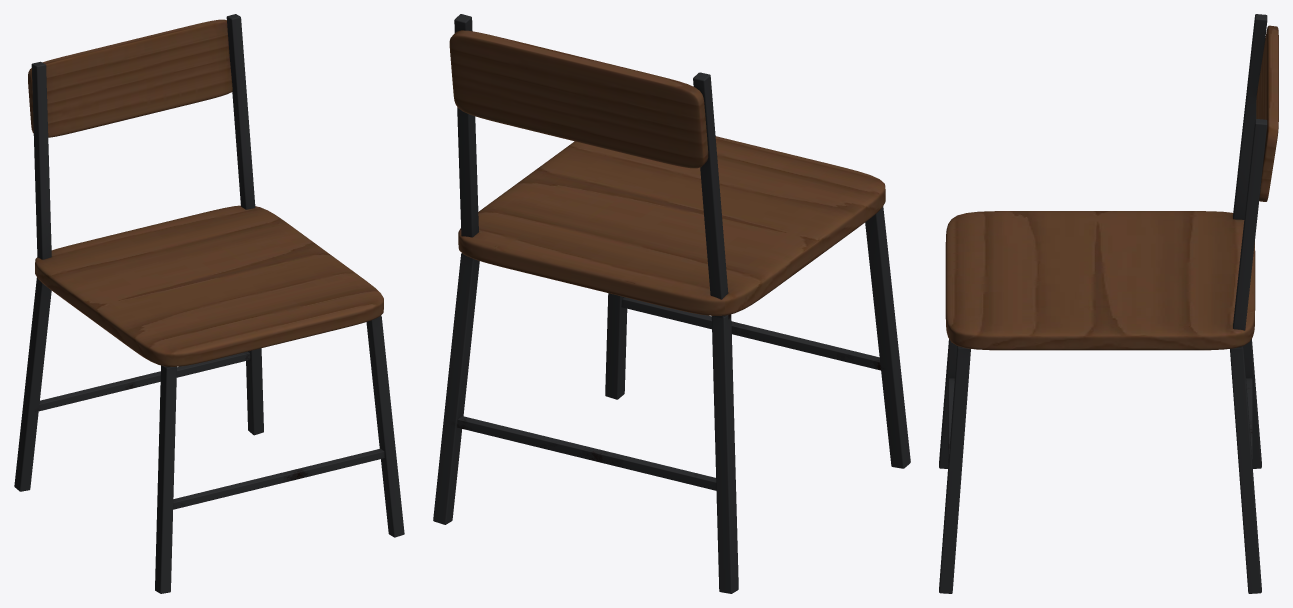
File: industrial-black.glb
3 views of the same model, side by side, from view 1: azimuth 30°, elevation 25°; view 2: azimuth 150°, elevation 25°; view 3: azimuth 270°, elevation 25° (orthographic). The views are drawn at different scales.
Parts seen in each view (by area): view 1: wood_h, paint_primary_metal; view 2: wood_h, paint_primary_metal; view 3: wood_h, paint_primary_metal.
Part boxes in pixels (x1=…): wood_h: x1=28, y1=19, x2=383, y2=366; paint_primary_metal: x1=14, y1=14, x2=404, y2=593; wood_h: x1=449, y1=30, x2=885, y2=315; paint_primary_metal: x1=433, y1=14, x2=910, y2=593; wood_h: x1=945, y1=25, x2=1278, y2=350; paint_primary_metal: x1=939, y1=14, x2=1267, y2=593.
Bounding box in the file's own units: 0.5017 × 0.8222 × 0.5492.
Materials: 2 (2 with a texture image).
